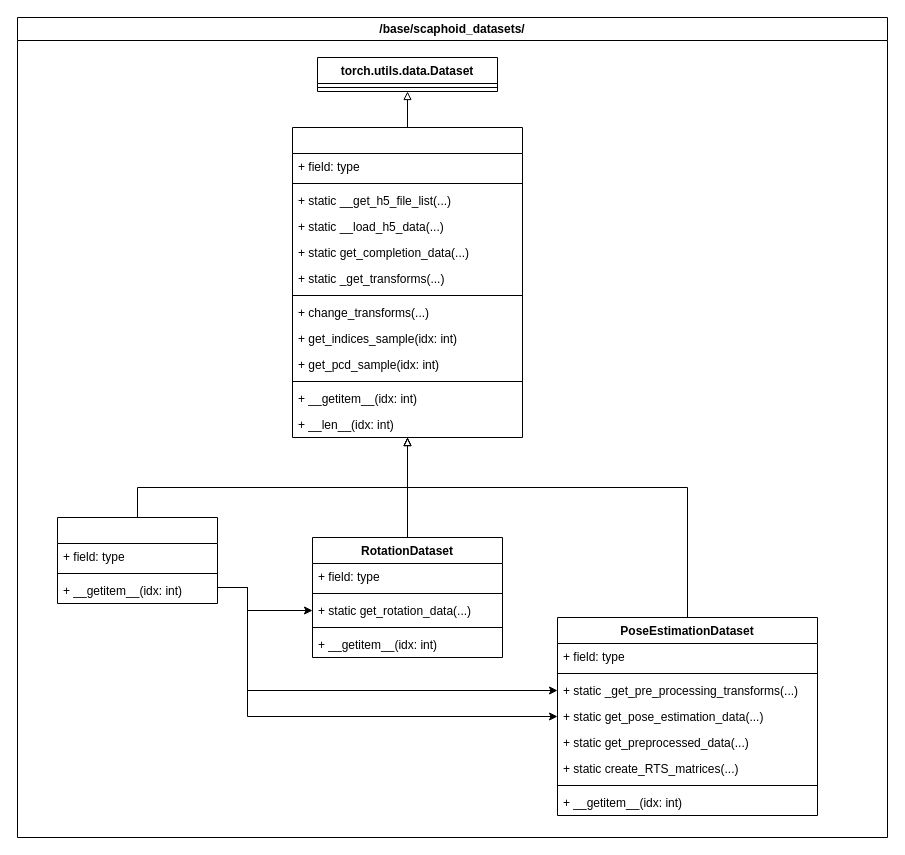
The diagram is 905 pixels wide and 855 high, and some of its shapes have lost their labels. The shapes that lost their labels are listed below. From the top down, each one's box as (x1, y1, x2, y2) in pixels, then its label:
(292, 126, 522, 438): BaseDataset
(56, 516, 218, 604): ScaphoidDataset
